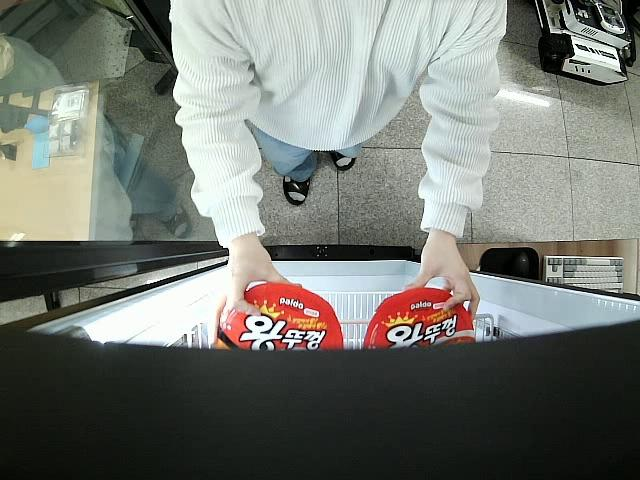00_hand: (401, 241, 481, 320), (229, 243, 301, 315)
10_wangTtukkeong: (215, 283, 344, 352), (365, 291, 475, 349)
